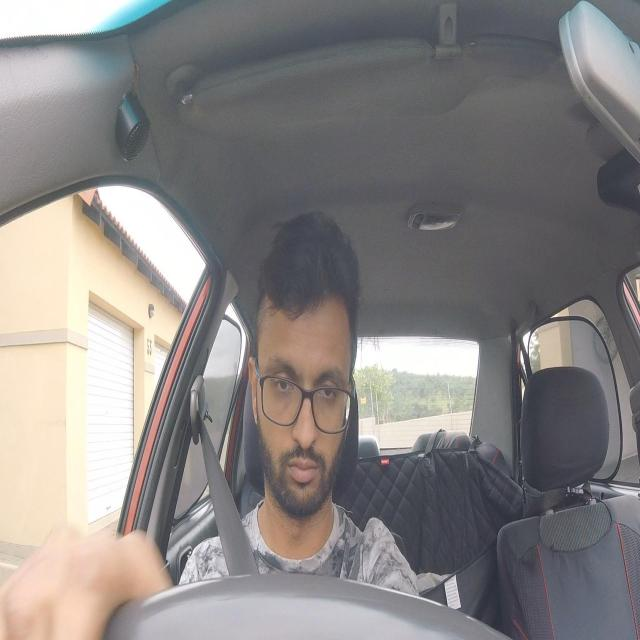open: (260, 351, 302, 411), (308, 356, 347, 410)
